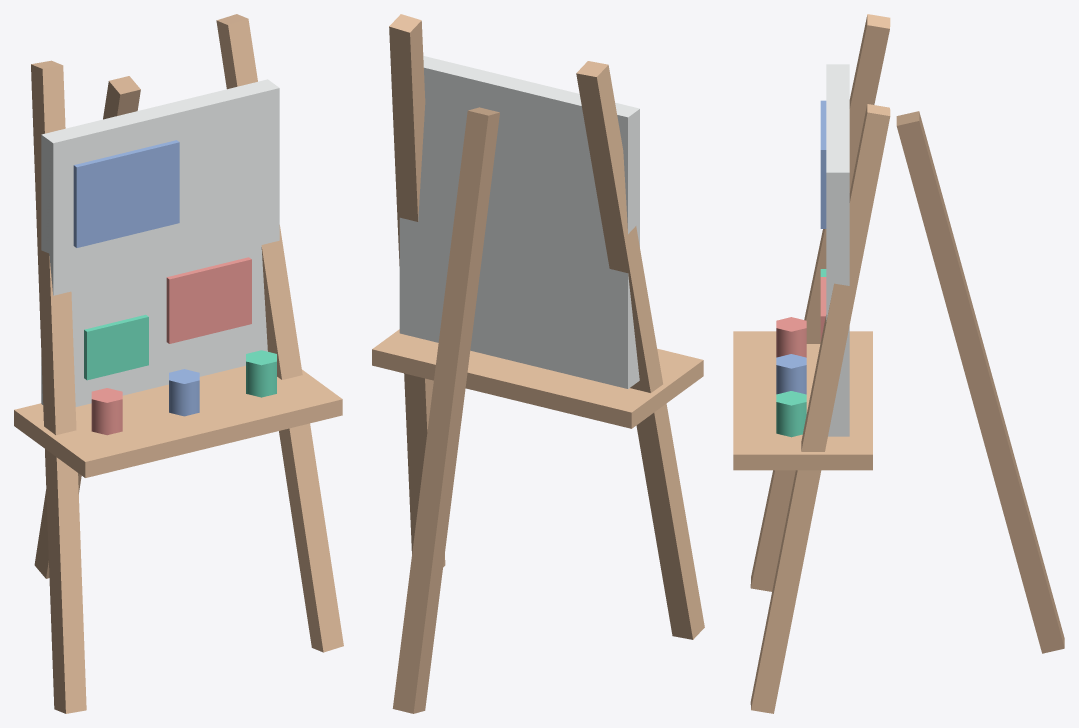
Rendered from easelKids.glb.
3 views of the same model, side by side, from view 1: azimuth 30°, elevation 25°; view 2: azimuth 150°, elevation 25°; view 3: azimuth 270°, elevation 25° (orthographic). The views are drawn at different scales.
Visible parts, largest first — view 1: easelKids; view 2: easelKids; view 3: easelKids.
Part boxes in pixels (<box>): easelKids: <box>14,14,343,713</box>; easelKids: <box>372,14,704,713</box>; easelKids: <box>733,14,1064,713</box>.
Size of the model in its own units: 0.27 by 0.5548 by 0.2847.
